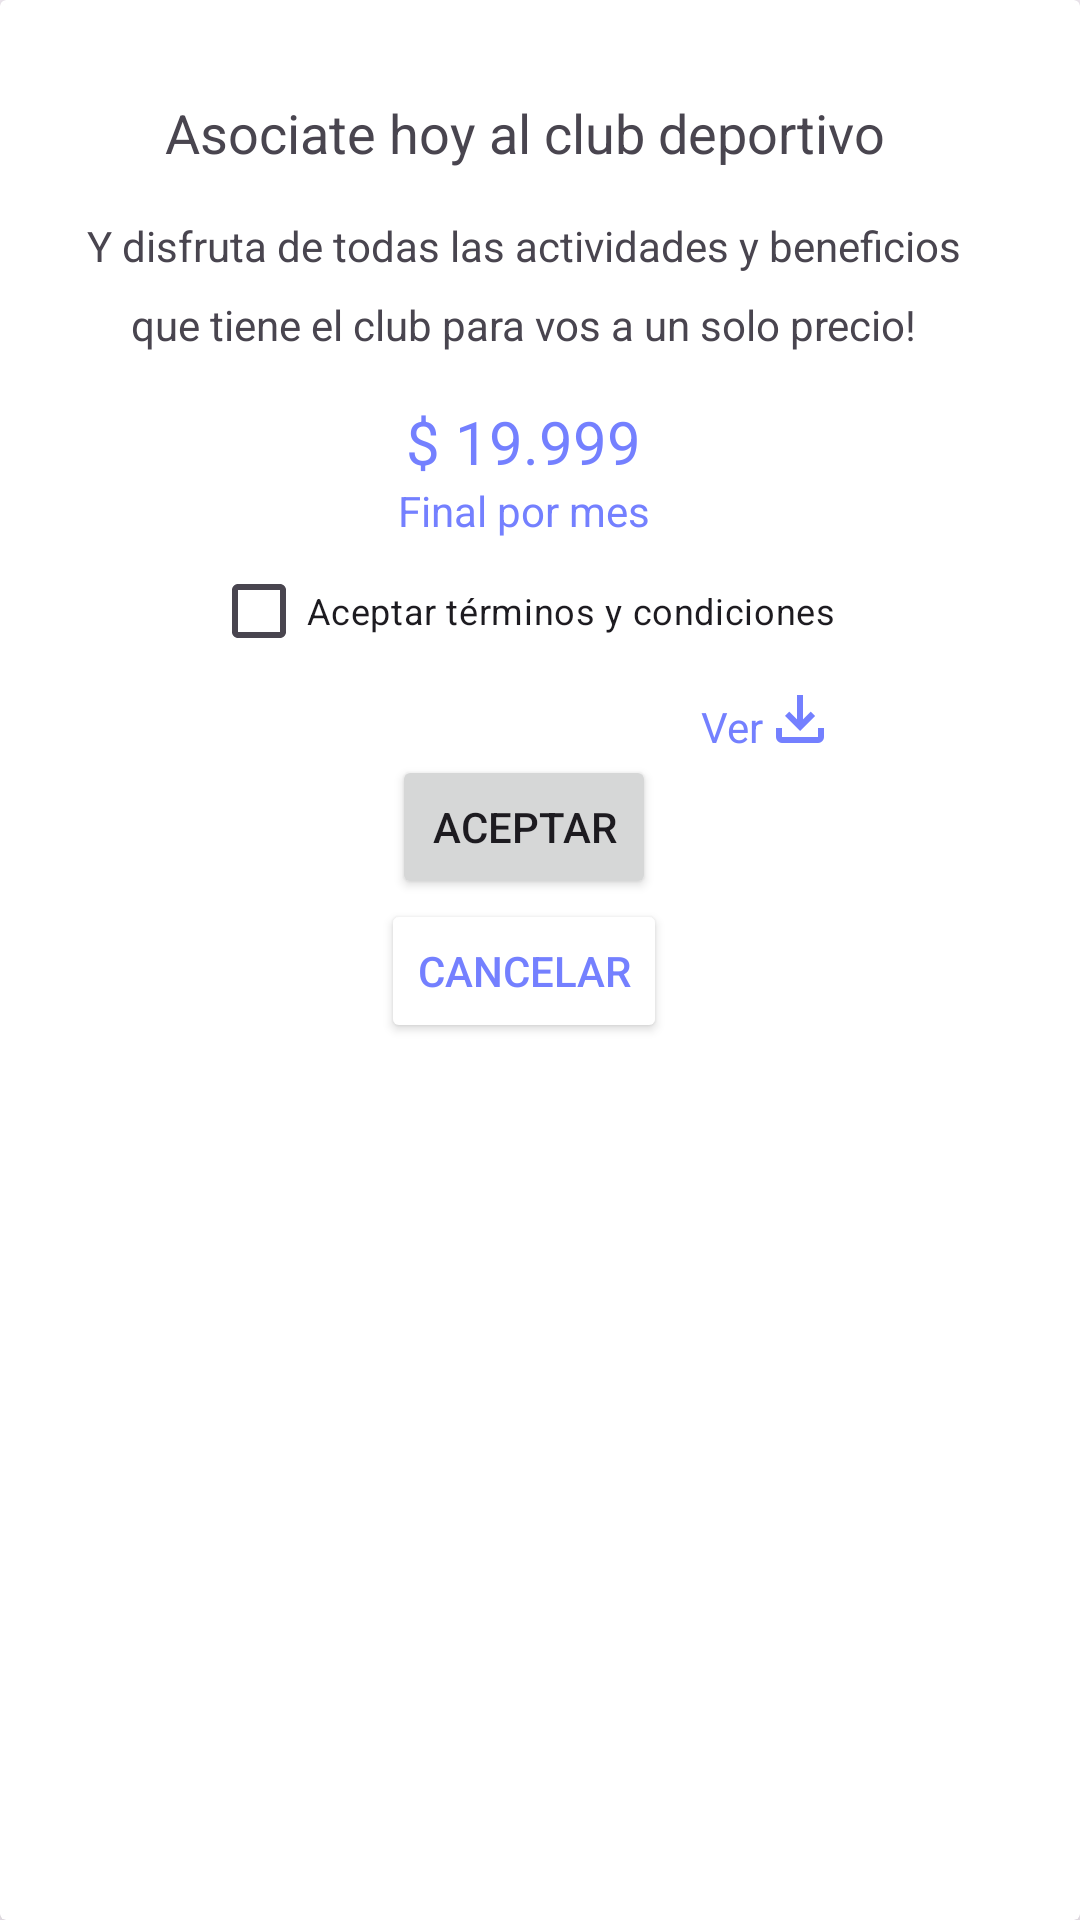

Icons on this 1080*1920 Android screen, each with its box as (x1, y1, x2, y2):
Download: (776, 695, 824, 743)
